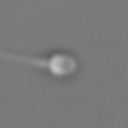normal: (1, 46, 49, 69)
